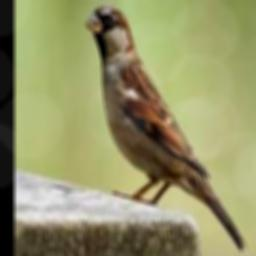Sparrow: (85, 6, 247, 251)
